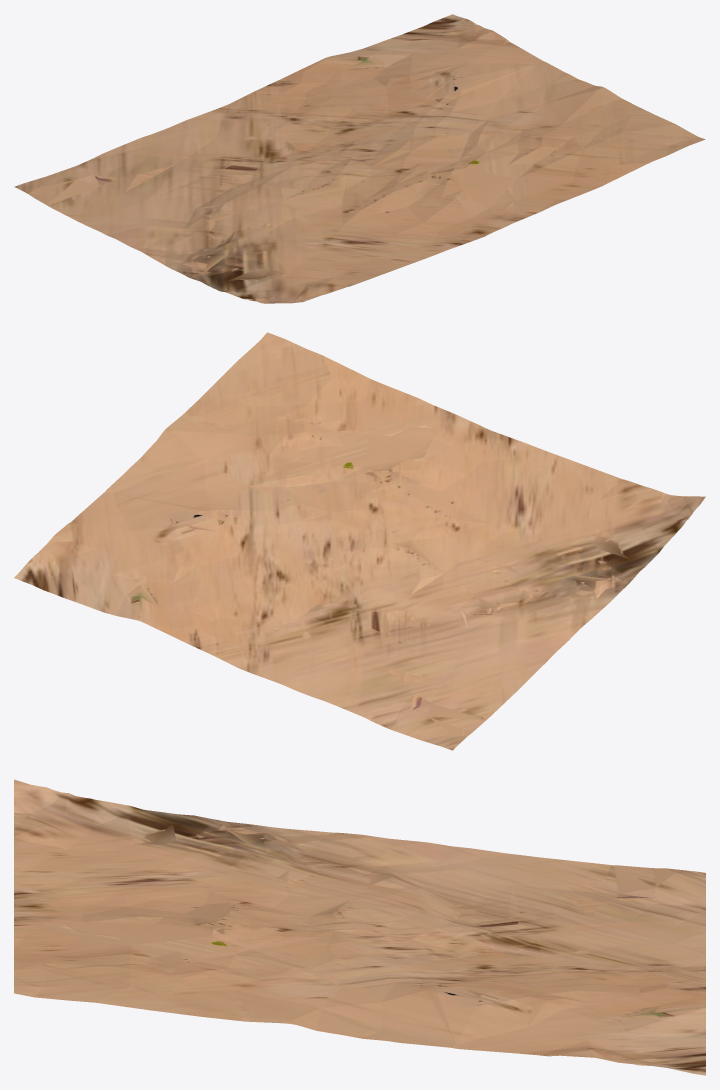
3 renders of one model, top to bottom at view 1: azimuth 30°, elevation 25°; view 2: azimuth 150°, elevation 25°; view 3: azimuth 270°, elevation 25°, orthographic. The views are drawn at different scales.
Bounding box in the file's own units: 2.09 × 0.5728 × 2.09.
Materials: 2 (2 with a texture image).
